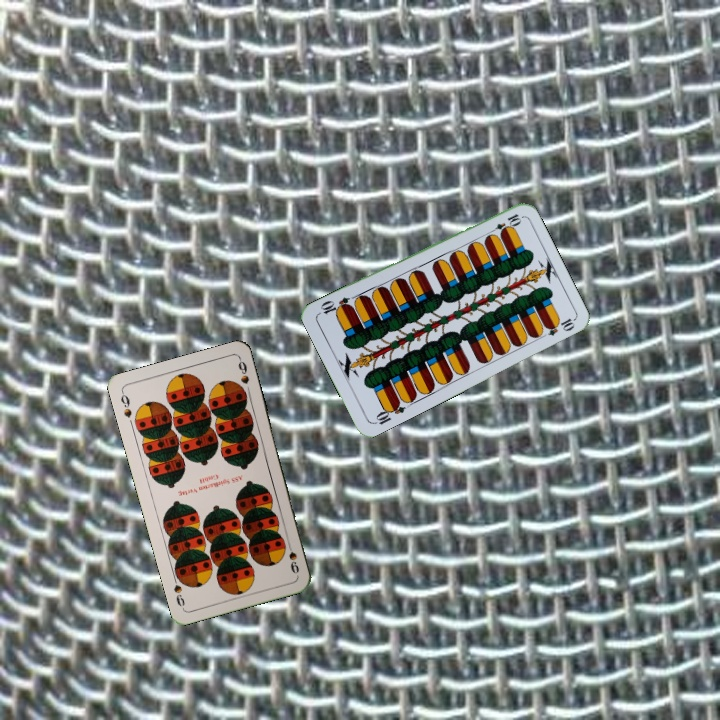E10: (370, 397, 408, 427), (485, 210, 523, 237)
S9: (283, 537, 302, 576), (117, 388, 134, 420)
